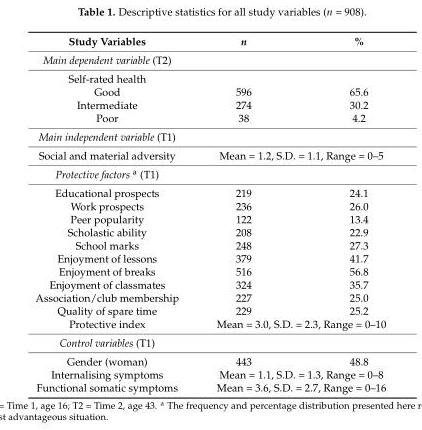table: (34, 34, 385, 393)
table column: (34, 34, 196, 393), (196, 34, 299, 393), (299, 34, 385, 393)
table column header: (34, 34, 385, 50)
table projected row header: (34, 163, 385, 183), (34, 126, 385, 145), (34, 332, 385, 351), (34, 50, 385, 68), (34, 68, 385, 84)
table row: (34, 163, 385, 183), (34, 126, 385, 145), (34, 332, 385, 351), (34, 50, 385, 68), (34, 145, 385, 163), (34, 34, 385, 50), (34, 68, 385, 84), (34, 110, 385, 126), (34, 183, 385, 199), (34, 316, 385, 332), (34, 351, 385, 367), (34, 84, 385, 97), (34, 97, 385, 110), (34, 199, 385, 212), (34, 212, 385, 225), (34, 225, 385, 238), (34, 238, 385, 251), (34, 251, 385, 264), (34, 264, 385, 277), (34, 277, 385, 290), (34, 290, 385, 303), (34, 303, 385, 316), (34, 367, 385, 380), (34, 380, 385, 393)
table spanning cell: (196, 145, 385, 163), (196, 316, 385, 332), (196, 367, 385, 380), (196, 380, 385, 393)
